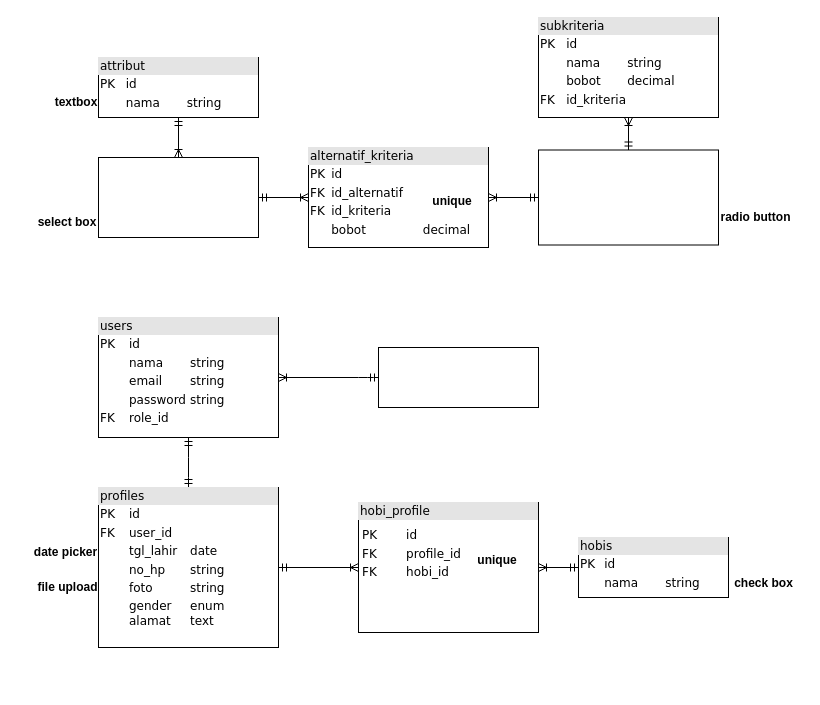
Image size: 820x705. Some labels were removed from this diagram. Here are the shapes that lost their labels. From the top down, the centre of each, then its label:
(178,197): alternatif PK id nama string FK id_attribut
(628,197): kriteria PK id nama string tipe enum (b,c) bobot decimal
(458,377): roles PK id nama string
